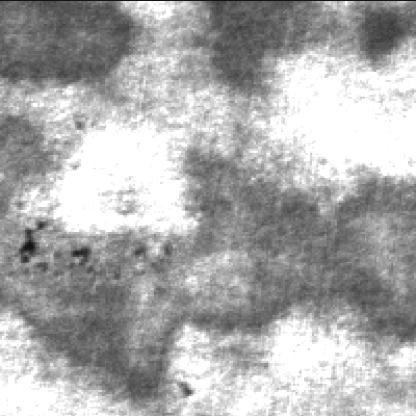patches: (181, 143, 410, 337), (0, 220, 214, 406), (195, 0, 350, 94), (0, 2, 135, 100), (1, 112, 66, 212), (345, 0, 413, 64)
